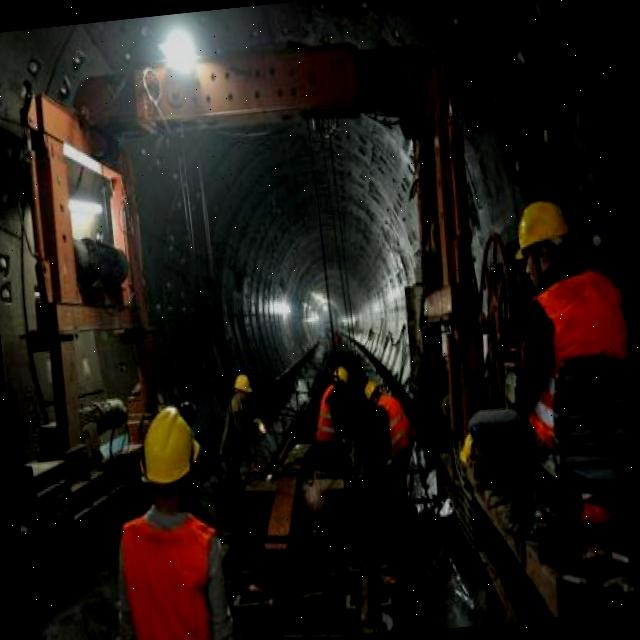helmet: (137, 402, 205, 489), (512, 198, 576, 267), (232, 370, 254, 398), (329, 364, 348, 384), (364, 380, 379, 400)
vest: (514, 267, 640, 538), (117, 506, 228, 640), (372, 391, 419, 464), (311, 381, 348, 451)
